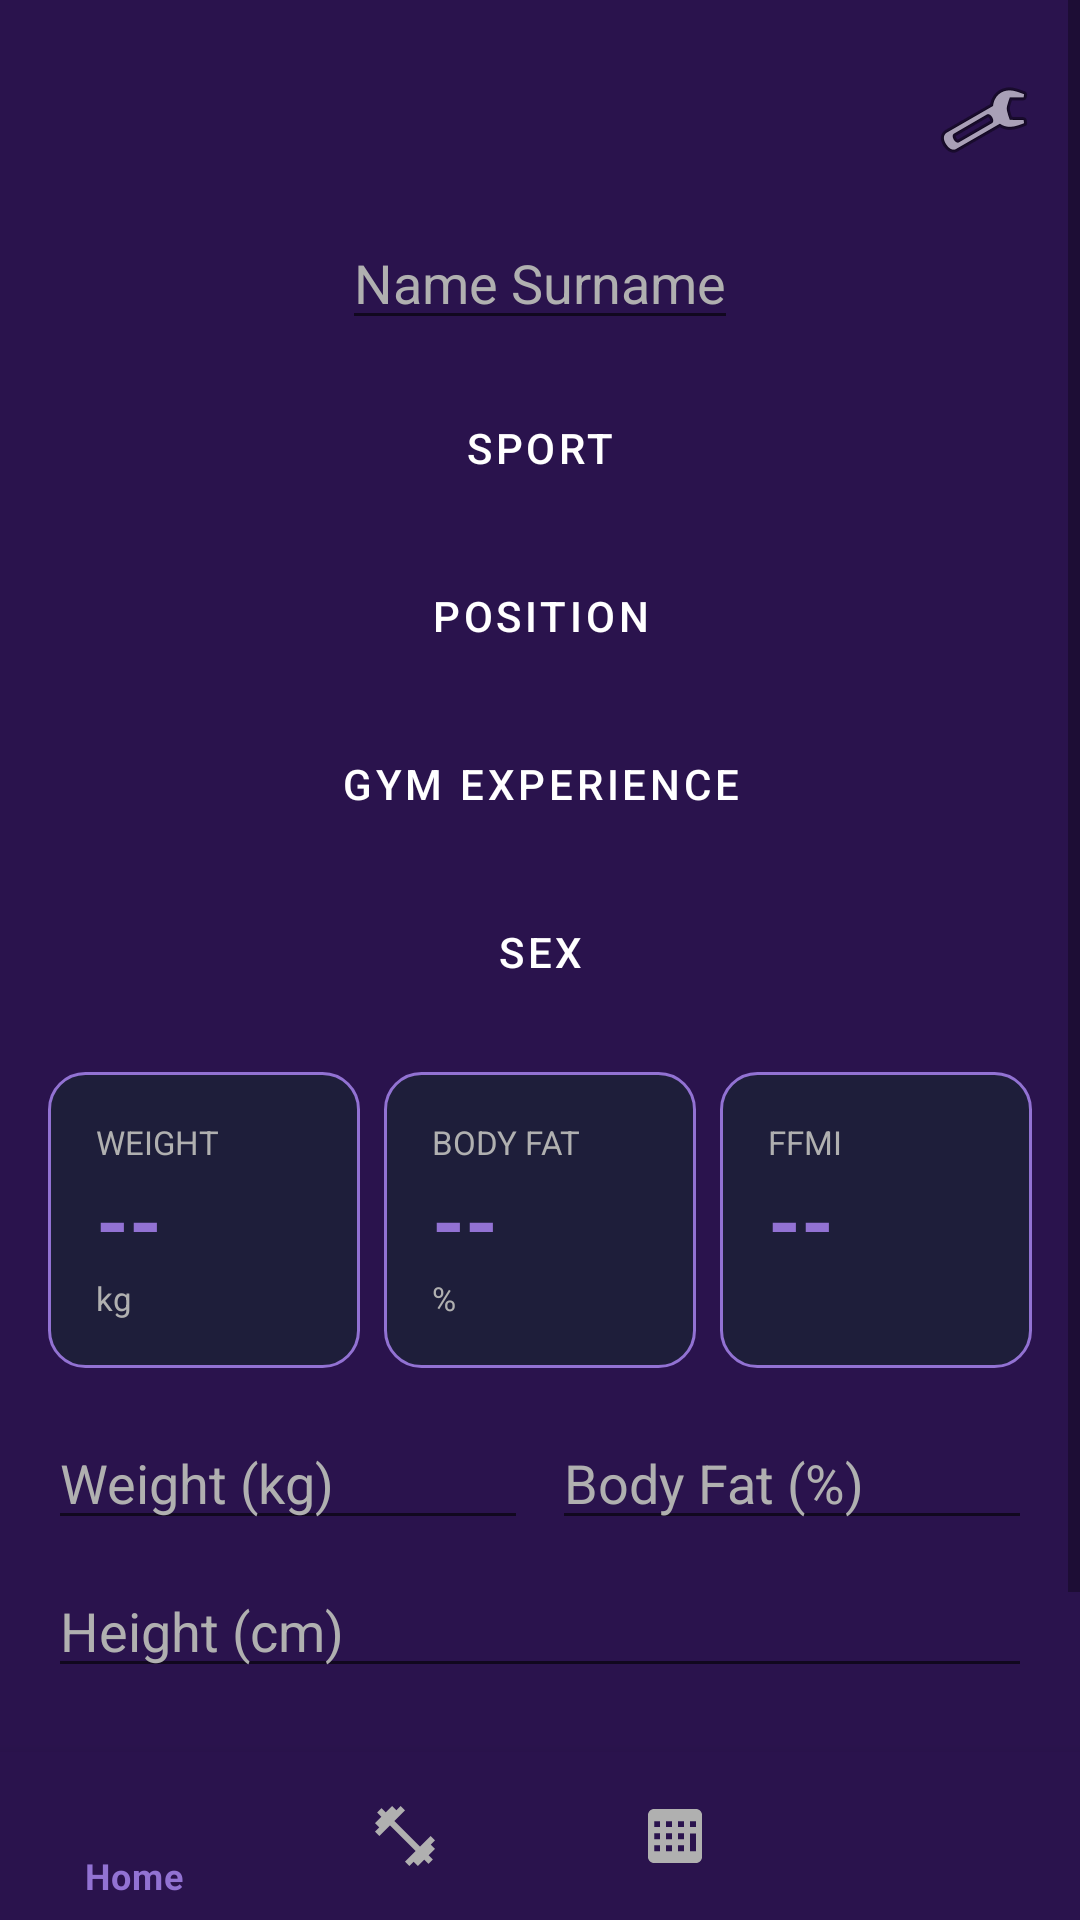

Named icons in this screenshot (1080 x 1920) and their bounding boxes, (x1, y1, x2, y2):
Settings: (941, 88, 1027, 152)
